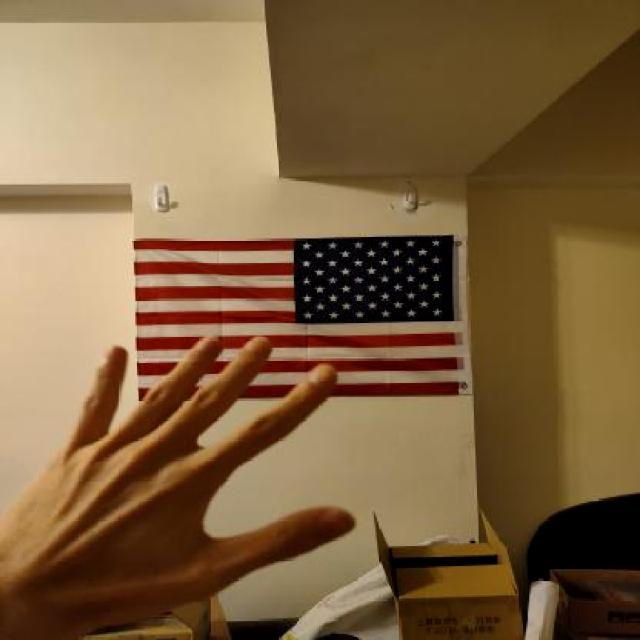no_glove: (0, 323, 369, 640)
